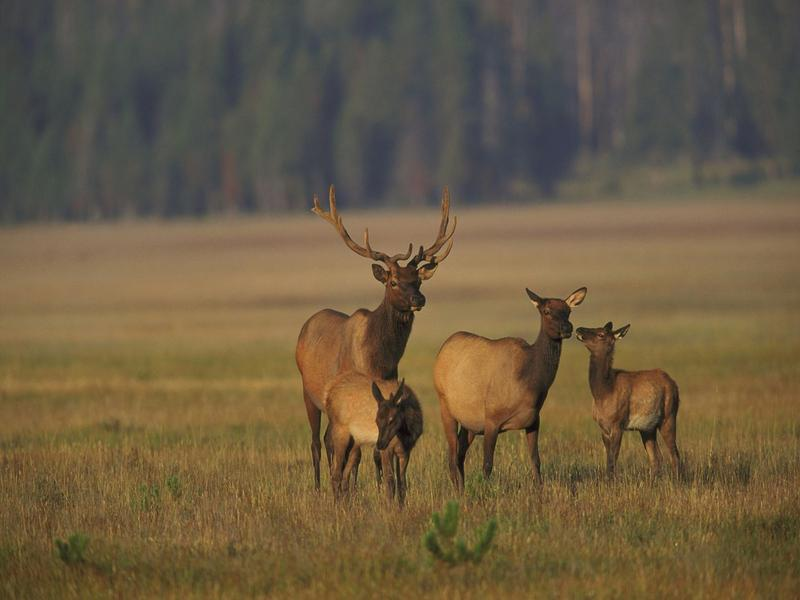elk: (290, 213, 447, 489), (436, 291, 580, 486), (577, 325, 690, 479), (323, 380, 425, 499)
